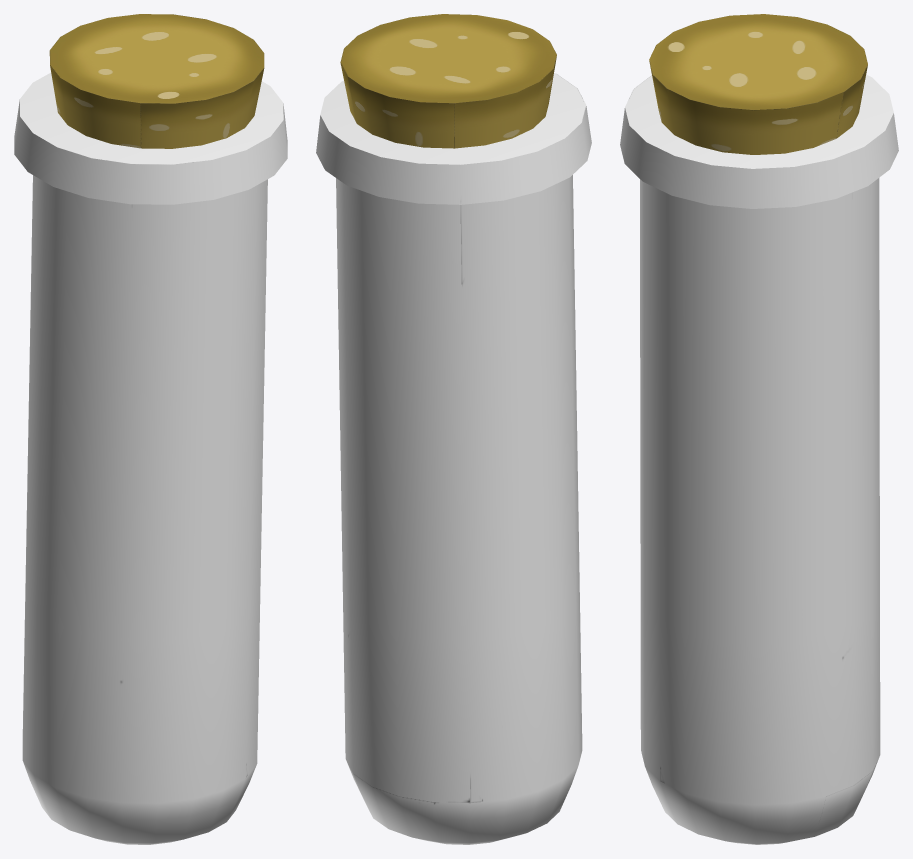
The model's file is Test Tubo.fbx.
3 views of the same model, side by side, from view 1: azimuth 30°, elevation 25°; view 2: azimuth 150°, elevation 25°; view 3: azimuth 270°, elevation 25° (orthographic).
Visible parts, largest first — view 1: pCylinder8, pCylinder9; view 2: pCylinder8, pCylinder9; view 3: pCylinder8, pCylinder9.
Boxes of the visible parts, x1=… form: pCylinder8: x1=14, y1=72, x2=287, y2=844; pCylinder9: x1=49, y1=14, x2=264, y2=148; pCylinder8: x1=316, y1=73, x2=591, y2=844; pCylinder9: x1=340, y1=14, x2=556, y2=148; pCylinder8: x1=620, y1=74, x2=898, y2=844; pCylinder9: x1=649, y1=14, x2=867, y2=154.
Size of the model in its own units: 52.69 by 161 by 52.71.
